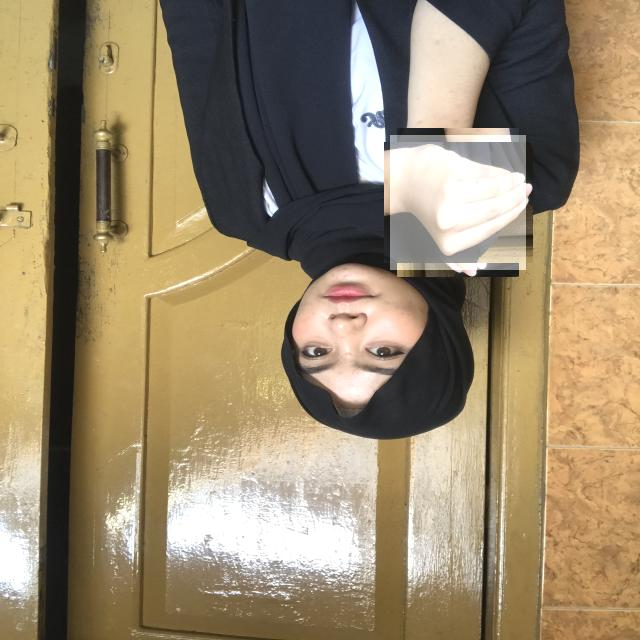kapan: (390, 135, 526, 270)
